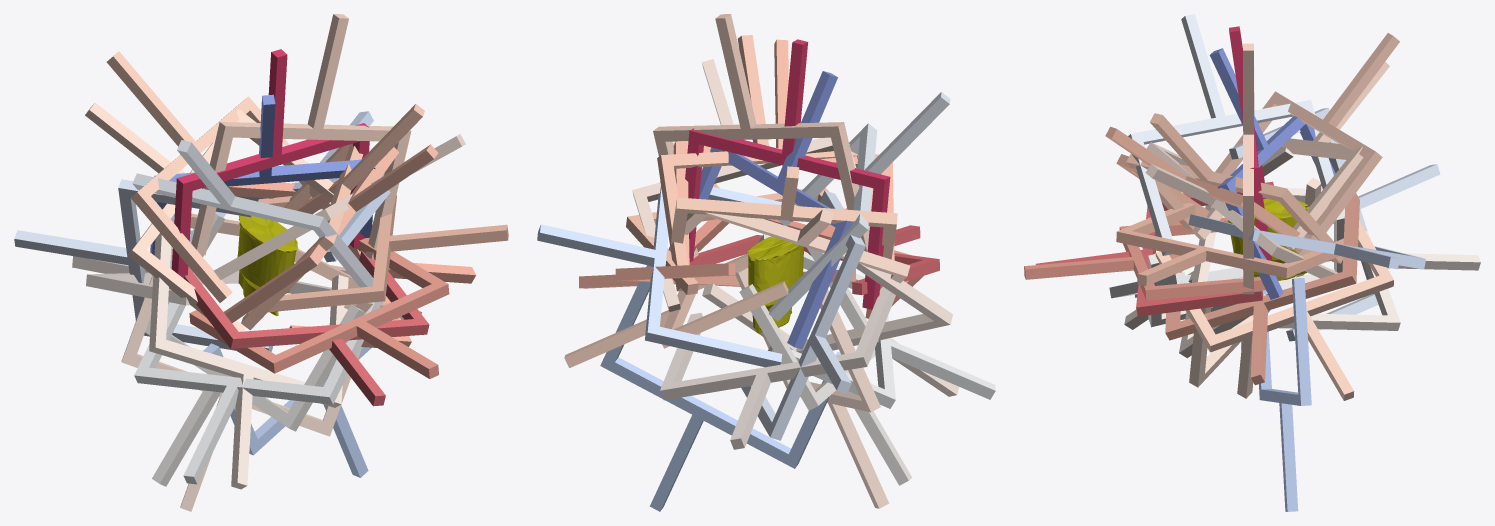
File: kit_obj_25_da_10.glb
3 views of the same model, side by side, from view 1: azimuth 30°, elevation 25°; view 2: azimuth 150°, elevation 25°; view 3: azimuth 270°, elevation 25° (orthographic). The views are drawn at different scales.
Parts seen in each view (by area): view 1: kit_obj_25_da_10.obj_grasp_12, kit_obj_25_da_10.obj_grasp_19, kit_obj_25_da_10.obj_grasp_5, kit_obj_25_da_10.obj_grasp_14, kit_obj_25_da_10.obj_grasp_8, kit_obj_25_da_10.obj_grasp_20, kit_obj_25_da_10.obj_grasp_16, kit_obj_25_da_10.obj_grasp_21, kit_obj_25_da_10.obj_grasp_4, kit_obj_25_da_10.obj_grasp_3, kit_obj_25_da_10.obj_grasp_17, kit_obj_25_da_10.obj_grasp_11 (+11 smaller); view 2: kit_obj_25_da_10.obj_grasp_2, kit_obj_25_da_10.obj_grasp_21, kit_obj_25_da_10.obj_grasp_7, kit_obj_25_da_10.obj_grasp_12, kit_obj_25_da_10.obj_grasp_1, kit_obj_25_da_10.obj_grasp_0, kit_obj_25_da_10.obj_grasp_4, kit_obj_25_da_10.obj_grasp_3, kit_obj_25_da_10.obj_grasp_14, kit_obj_25_da_10.obj_grasp_8, kit_obj_25_da_10.obj_grasp_15, kit_obj_25_da_10.obj_grasp_10 (+11 smaller); view 3: kit_obj_25_da_10.obj_grasp_14, kit_obj_25_da_10.obj_grasp_4, kit_obj_25_da_10.obj_grasp_13, kit_obj_25_da_10.obj_grasp_16, kit_obj_25_da_10.obj_grasp_18, kit_obj_25_da_10.obj_grasp_1, kit_obj_25_da_10.obj_grasp_19, kit_obj_25_da_10.obj_grasp_15, kit_obj_25_da_10.obj_grasp_7, kit_obj_25_da_10.obj_grasp_0, kit_obj_25_da_10.obj_grasp_11, kit_obj_25_da_10.obj_grasp_2 (+11 smaller).
Boxes of the visible parts, left/top/right/bottom form: kit_obj_25_da_10.obj_grasp_12: left=191, top=14, right=411, bottom=259; kit_obj_25_da_10.obj_grasp_19: left=189, top=237, right=449, bottom=378; kit_obj_25_da_10.obj_grasp_5: left=134, top=273, right=382, bottom=484; kit_obj_25_da_10.obj_grasp_14: left=106, top=51, right=330, bottom=302; kit_obj_25_da_10.obj_grasp_8: left=149, top=233, right=348, bottom=489; kit_obj_25_da_10.obj_grasp_20: left=184, top=250, right=429, bottom=406; kit_obj_25_da_10.obj_grasp_16: left=248, top=195, right=508, bottom=314; kit_obj_25_da_10.obj_grasp_21: left=171, top=49, right=369, bottom=278; kit_obj_25_da_10.obj_grasp_4: left=132, top=140, right=373, bottom=287; kit_obj_25_da_10.obj_grasp_3: left=14, top=179, right=272, bottom=351; kit_obj_25_da_10.obj_grasp_17: left=223, top=144, right=438, bottom=322; kit_obj_25_da_10.obj_grasp_11: left=85, top=102, right=333, bottom=331; kit_obj_25_da_10.obj_grasp_2: left=537, top=181, right=796, bottom=367; kit_obj_25_da_10.obj_grasp_21: left=685, top=39, right=890, bottom=309; kit_obj_25_da_10.obj_grasp_7: left=660, top=286, right=895, bottom=449; kit_obj_25_da_10.obj_grasp_12: left=653, top=14, right=869, bottom=258; kit_obj_25_da_10.obj_grasp_1: left=600, top=265, right=840, bottom=511; kit_obj_25_da_10.obj_grasp_0: left=668, top=71, right=852, bottom=349; kit_obj_25_da_10.obj_grasp_4: left=769, top=92, right=950, bottom=321; kit_obj_25_da_10.obj_grasp_3: left=741, top=190, right=865, bottom=440; kit_obj_25_da_10.obj_grasp_14: left=669, top=166, right=897, bottom=259; kit_obj_25_da_10.obj_grasp_8: left=702, top=263, right=959, bottom=396; kit_obj_25_da_10.obj_grasp_15: left=657, top=35, right=873, bottom=291; kit_obj_25_da_10.obj_grasp_10: left=735, top=266, right=889, bottom=508; kit_obj_25_da_10.obj_grasp_14: left=1215, top=33, right=1399, bottom=255; kit_obj_25_da_10.obj_grasp_4: left=1128, top=14, right=1333, bottom=255; kit_obj_25_da_10.obj_grasp_13: left=1155, top=208, right=1393, bottom=400; kit_obj_25_da_10.obj_grasp_16: left=1116, top=203, right=1343, bottom=286; kit_obj_25_da_10.obj_grasp_18: left=1165, top=193, right=1359, bottom=385; kit_obj_25_da_10.obj_grasp_1: left=1259, top=278, right=1311, bottom=511; kit_obj_25_da_10.obj_grasp_19: left=1024, top=217, right=1265, bottom=300; kit_obj_25_da_10.obj_grasp_15: left=1126, top=113, right=1342, bottom=263; kit_obj_25_da_10.obj_grasp_7: left=1279, top=188, right=1480, bottom=330; kit_obj_25_da_10.obj_grasp_0: left=1209, top=48, right=1335, bottom=299; kit_obj_25_da_10.obj_grasp_11: left=1192, top=61, right=1389, bottom=249; kit_obj_25_da_10.obj_grasp_2: left=1188, top=214, right=1425, bottom=269.
Bounding box in the file's own units: 0.2136 × 0.2723 × 0.2515.
